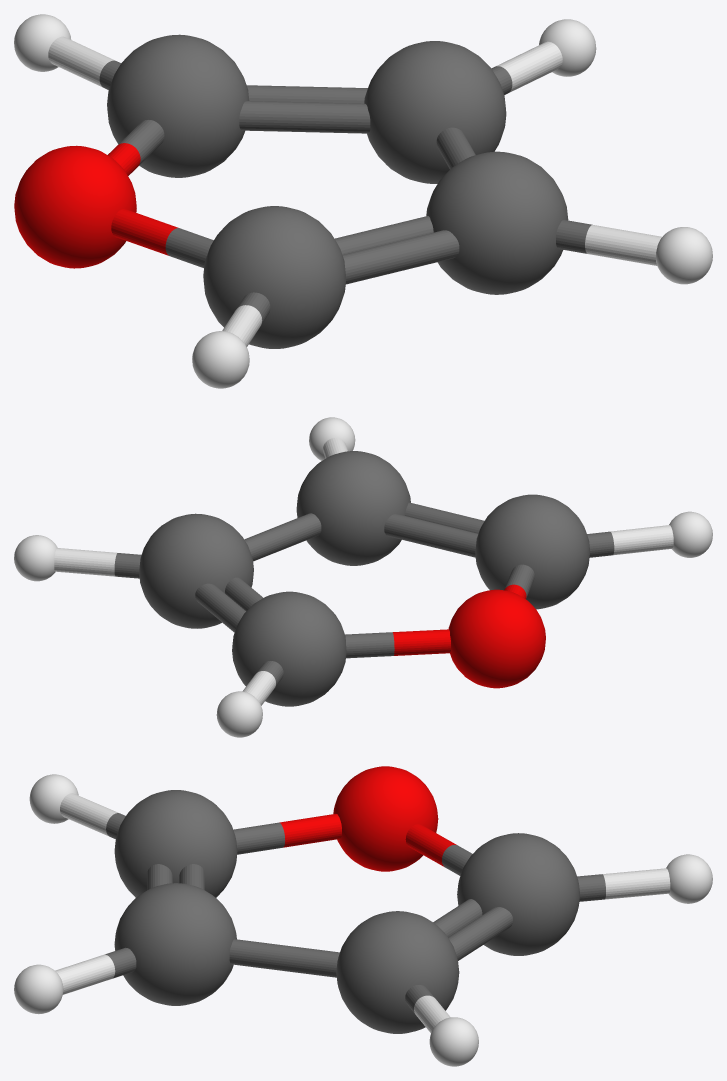
File: furan.fbx
The picture shows the model from 3 angles, top to bottom: view 1: azimuth 30°, elevation 25°; view 2: azimuth 150°, elevation 25°; view 3: azimuth 270°, elevation 25°; orthographic projection. The views are drawn at different scales.
Visible parts, largest first — view 1: C02, C01, C04, C03, O05, C03=C04, C01=C02.001, C02-H07, C01-O05, H06, H07, H09 (+8 smaller); view 2: C04, C02, C01, C03, O05, C04-O05, C01=C02, C03-H08, C01-H06, C02-C03, H09, H08 (+7 smaller); view 3: C02, C03, C04, C01, O05, C02-C03, C01-O05, C04-H09, C02-H07, H08, H07, H09 (+8 smaller).
Boxes of the visible parts, bbox=[...] form: C02: bbox=[426, 151, 568, 294]; C01: bbox=[203, 206, 346, 348]; C04: bbox=[107, 34, 249, 177]; C03: bbox=[364, 41, 506, 183]; O05: bbox=[14, 145, 136, 268]; C03=C04: bbox=[239, 101, 370, 133]; C01=C02.001: bbox=[342, 230, 459, 284]; C02-H07: bbox=[556, 220, 662, 265]; C01-O05: bbox=[111, 209, 213, 267]; H06: bbox=[192, 331, 249, 388]; H07: bbox=[655, 227, 712, 284]; H09: bbox=[14, 14, 71, 71]; C04: bbox=[232, 591, 346, 706]; C02: bbox=[296, 451, 410, 565]; C01: bbox=[475, 494, 589, 609]; C03: bbox=[139, 513, 253, 628]; O05: bbox=[448, 589, 545, 688]; C04-O05: bbox=[345, 629, 450, 658]; C01=C02: bbox=[384, 514, 478, 557]; C03-H08: bbox=[54, 548, 141, 578]; C01-H06: bbox=[587, 525, 673, 557]; C02-C03: bbox=[244, 513, 321, 561]; H09: bbox=[216, 691, 262, 737]; H08: bbox=[14, 535, 57, 581]; C02: bbox=[114, 883, 236, 1005]; C03: bbox=[336, 911, 459, 1033]; C04: bbox=[457, 833, 580, 955]; C01: bbox=[114, 790, 237, 897]; O05: bbox=[333, 766, 438, 871]; C02-C03: bbox=[229, 939, 339, 977]; C01-O05: bbox=[233, 814, 341, 854]; C04-H09: bbox=[577, 868, 670, 901]; C02-H07: bbox=[55, 947, 136, 994]; H08: bbox=[429, 1017, 478, 1066]; H07: bbox=[14, 964, 63, 1014]; H09: bbox=[666, 854, 712, 903].
Size of the model in its own units: 390 by 77.01 by 437.
